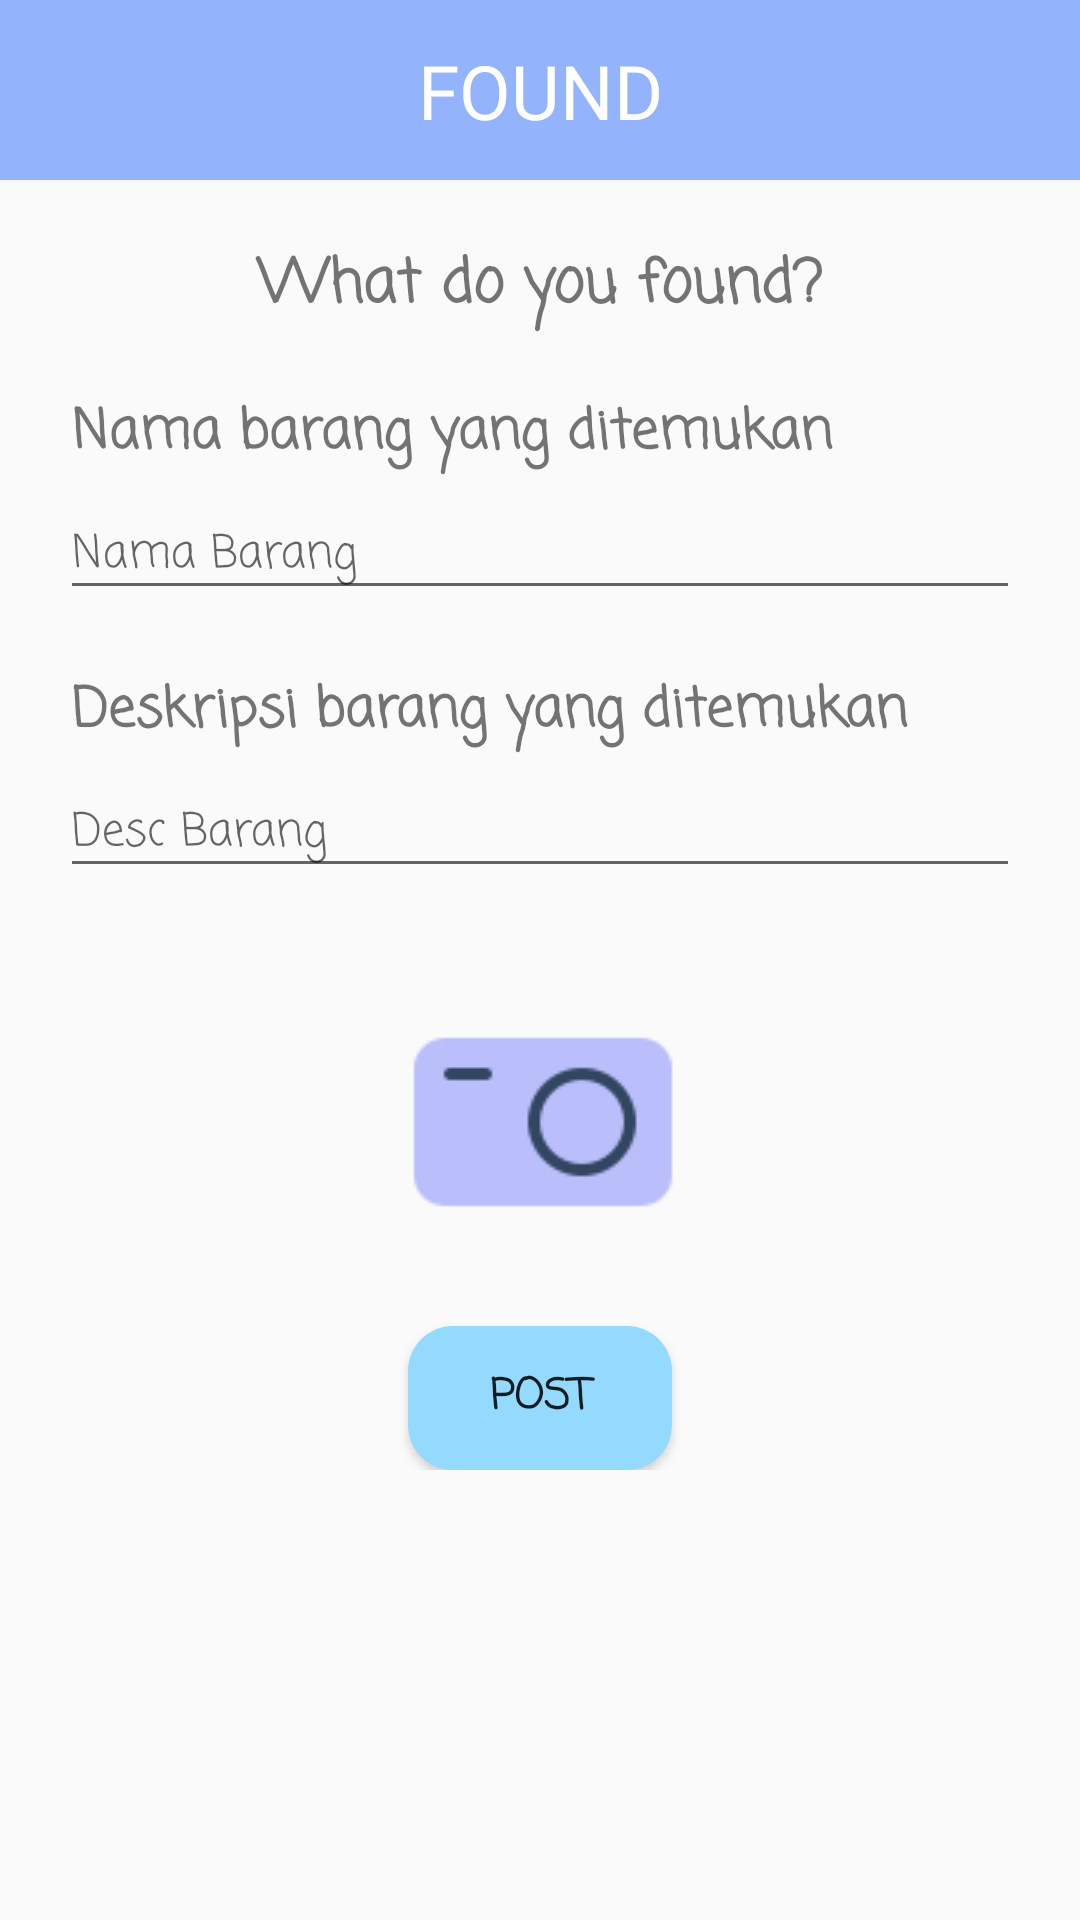

Icon click points for this 1080px x 1920px phone screenshot, format [x,y]:
camera: [543,1122]
